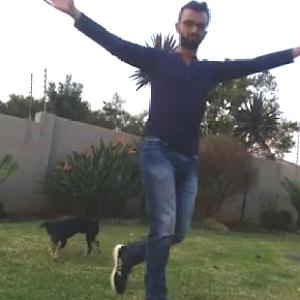takeoff: (53, 4, 288, 276)
